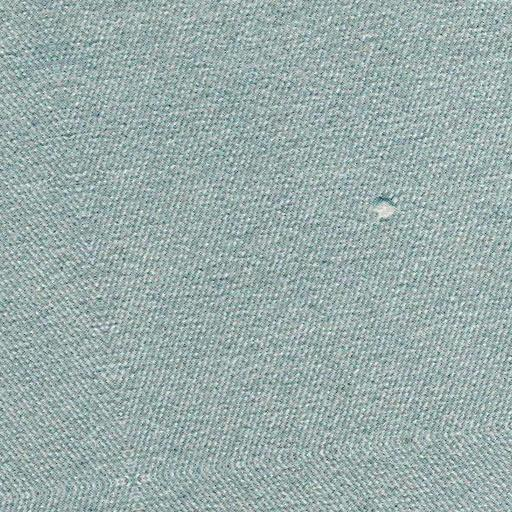knot: (359, 181, 410, 234)
